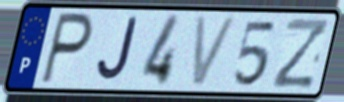4: (138, 12, 182, 91)
5: (231, 19, 280, 88)
J: (94, 16, 140, 85)
P: (38, 10, 96, 87)
V: (189, 14, 241, 90)
Z: (269, 16, 332, 91)
